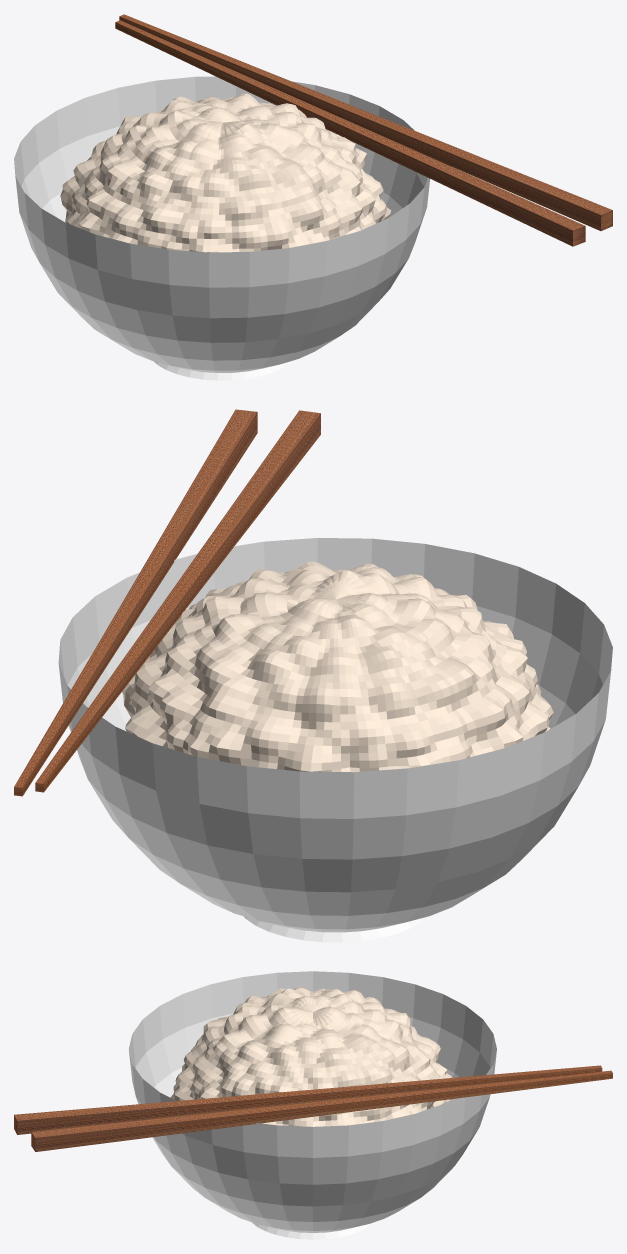
Rendered from rice_bowl.glb.
3 renders of one model, top to bottom at view 1: azimuth 30°, elevation 25°; view 2: azimuth 150°, elevation 25°; view 3: azimuth 270°, elevation 25°, orthographic. The views are drawn at different scales.
Parts seen in each view (by area): view 1: Sphere_0, Sphere.001_2, Cube.001_4, Cube_3, Cylinder_1; view 2: Sphere_0, Sphere.001_2, Cube_3, Cube.001_4, Cylinder_1; view 3: Sphere_0, Sphere.001_2, Cube.001_4, Cube_3, Cylinder_1.
Part boxes in pixels (x1,y1,x2,y2): Sphere_0: [14, 76, 429, 372]; Sphere.001_2: [60, 93, 391, 252]; Cube.001_4: [119, 14, 612, 230]; Cube_3: [115, 20, 585, 246]; Cylinder_1: [154, 361, 291, 380]; Sphere_0: [58, 538, 612, 932]; Sphere.001_2: [122, 561, 553, 772]; Cube_3: [35, 410, 320, 792]; Cube.001_4: [14, 409, 257, 796]; Cylinder_1: [244, 916, 427, 942]; Sphere_0: [128, 971, 496, 1232]; Sphere.001_2: [170, 987, 452, 1126]; Cube.001_4: [31, 1070, 612, 1151]; Cube_3: [14, 1065, 602, 1134]; Cylinder_1: [252, 1222, 373, 1239].
Size of the model in its own units: 2.29 by 1.26 by 3.25.
Materials: 3 (1 with a texture image).
